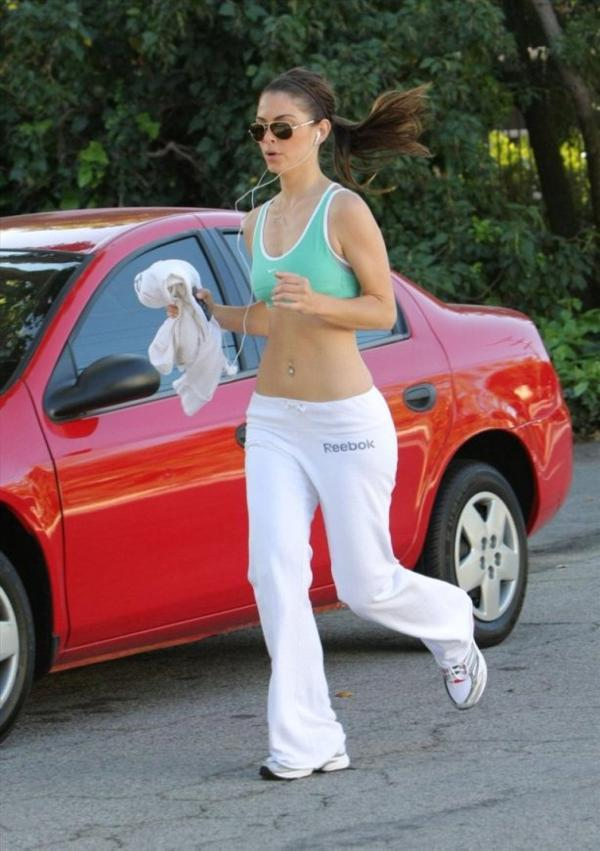person: (196, 74, 491, 780)
